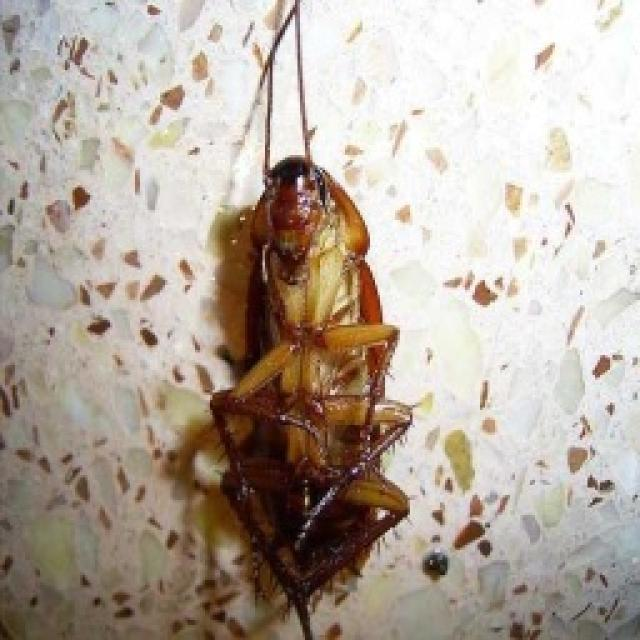cockroach: (194, 106, 420, 635)
